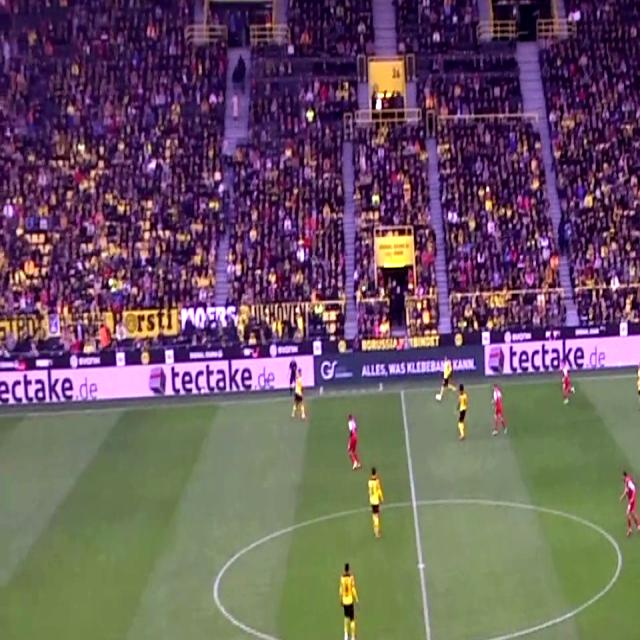ball: (434, 390, 444, 404)
soccer-player: (334, 554, 365, 640), (366, 462, 388, 546), (620, 461, 640, 541), (346, 405, 365, 475), (490, 380, 509, 444), (290, 357, 308, 424), (452, 381, 470, 446), (440, 346, 459, 406), (560, 350, 579, 409), (632, 359, 640, 422)
